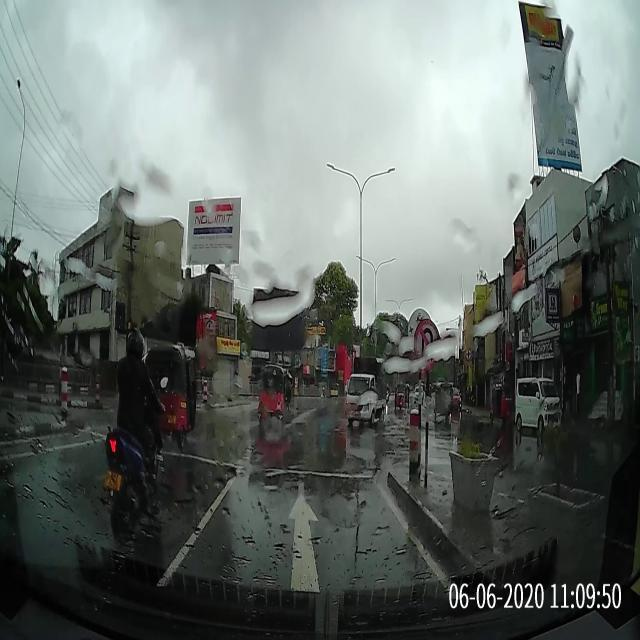forward: (158, 486, 449, 584)
